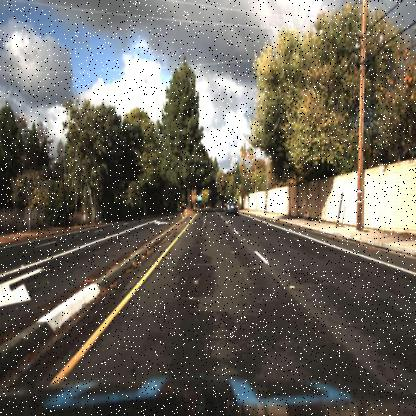car: (225, 201, 240, 217)
